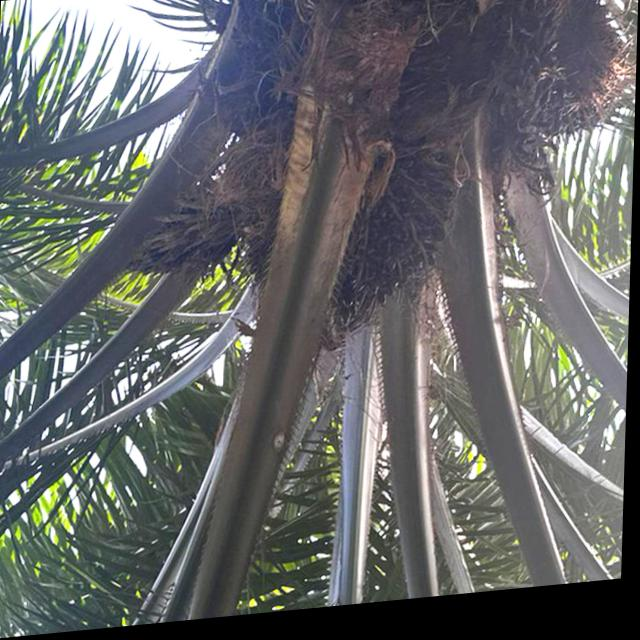ripe: (240, 136, 483, 370)
